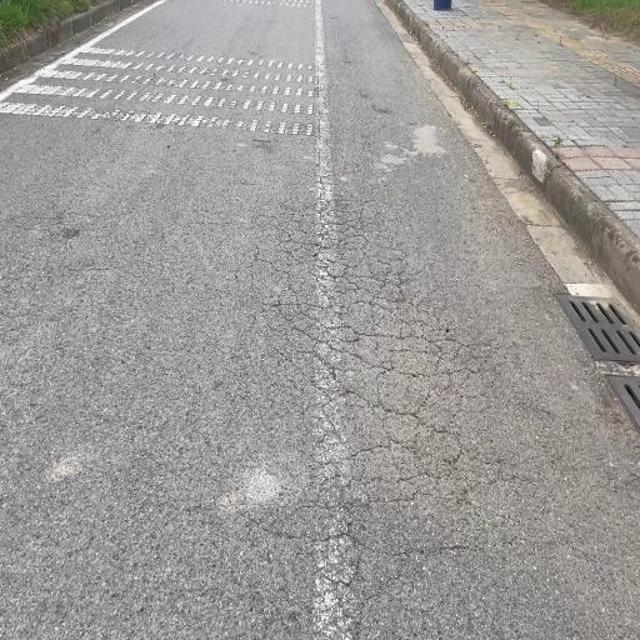Retak Buaya: (274, 194, 498, 542)
